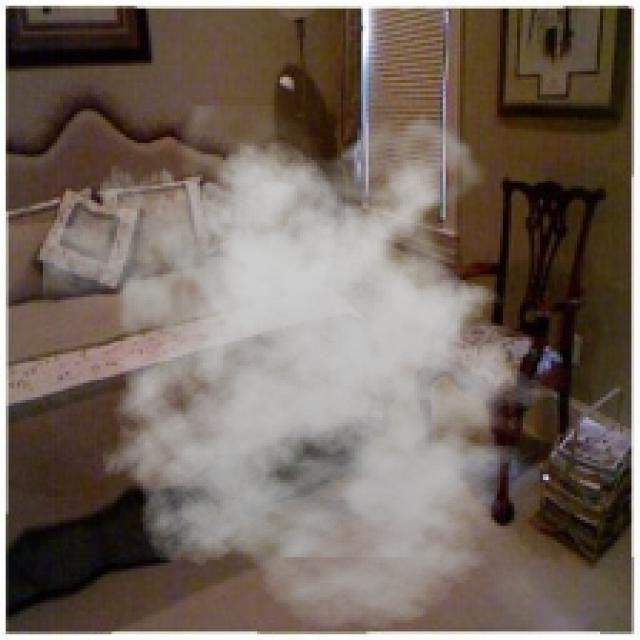smoke: (43, 106, 574, 631)
